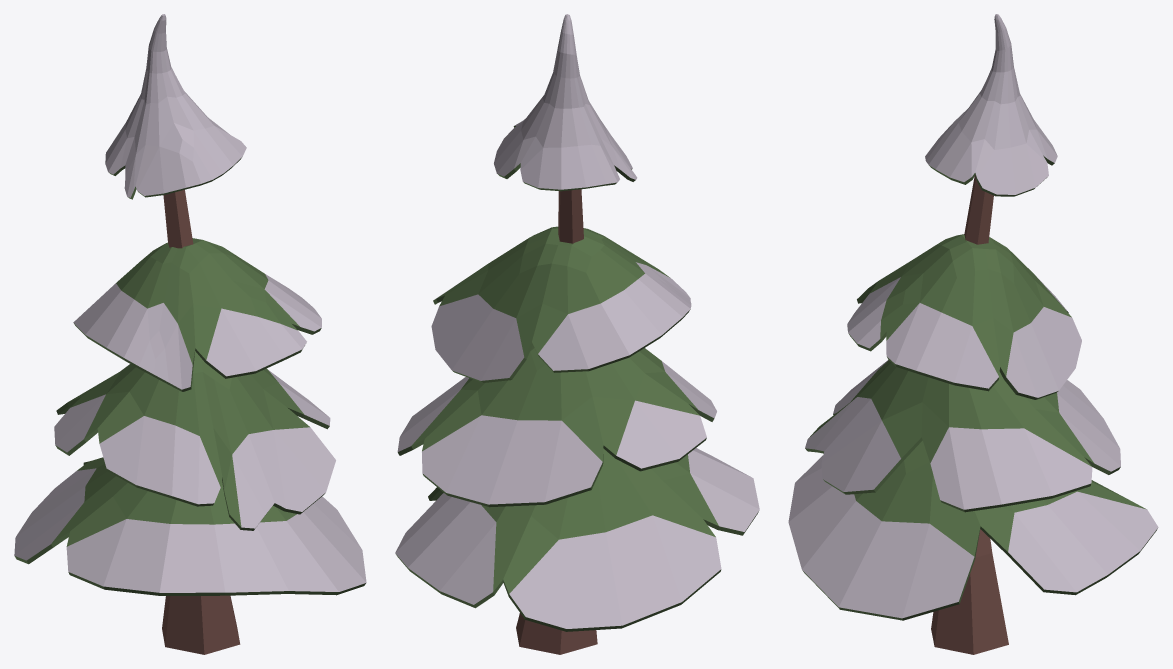
Rendered from pinetree_snow_2.glb.
3 views of the same model, side by side, from view 1: azimuth 30°, elevation 25°; view 2: azimuth 150°, elevation 25°; view 3: azimuth 270°, elevation 25° (orthographic). The views are drawn at different scales.
Parts seen in each view (by area): view 1: PineTree_Snow_2; view 2: PineTree_Snow_2; view 3: PineTree_Snow_2.
Boxes of the visible parts, x1,y1,x2,y2 form: PineTree_Snow_2: [14, 14, 366, 654]; PineTree_Snow_2: [395, 14, 759, 654]; PineTree_Snow_2: [788, 14, 1158, 654].
Size of the model in its own units: 4.49 by 8.91 by 4.89.
